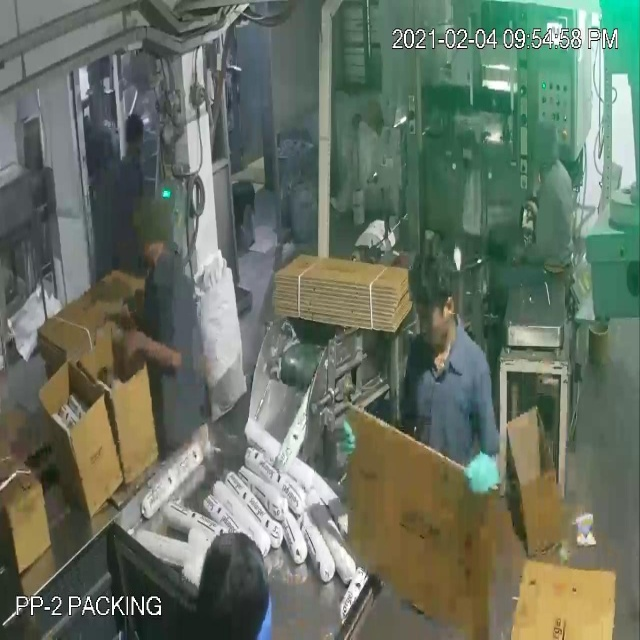Guantes: (452, 429, 525, 532)
Sin_guantes: (119, 312, 191, 398)
